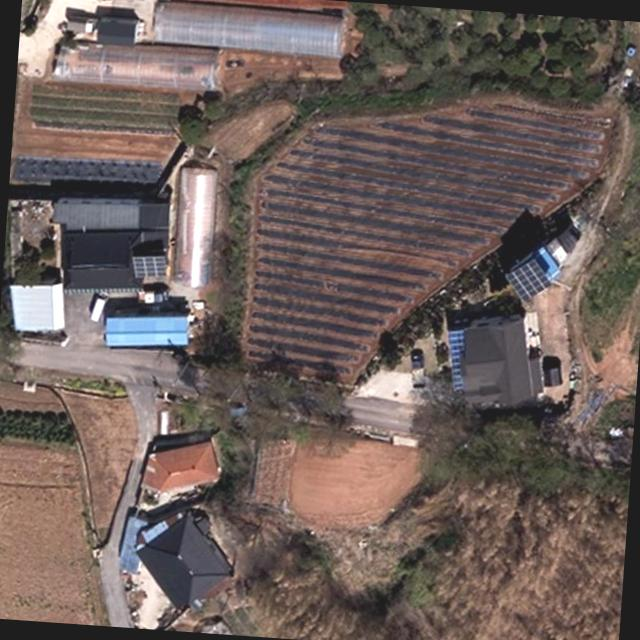solar: (499, 253, 556, 304), (126, 250, 174, 280)
